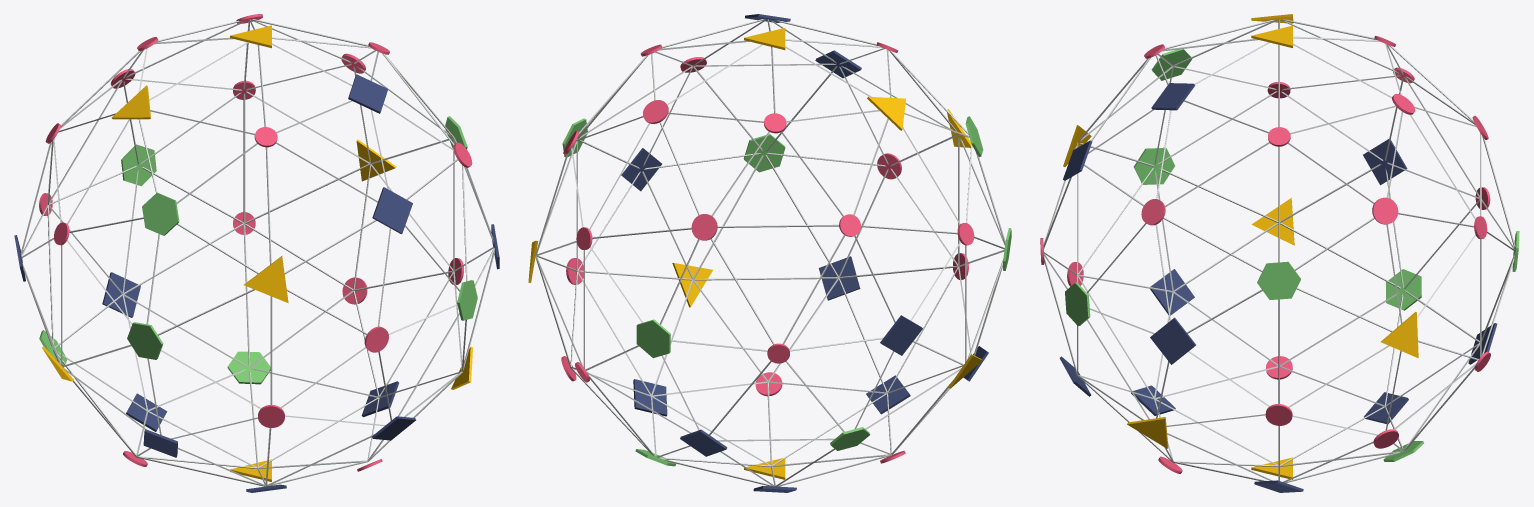
File: wtf-15.glb
3 views of the same model, side by side, from view 1: azimuth 30°, elevation 25°; view 2: azimuth 150°, elevation 25°; view 3: azimuth 270°, elevation 25° (orthographic).
Parts seen in each view (by area): view 1: wireisosphereV4.001; view 2: wireisosphereV4.001; view 3: wireisosphereV4.001.
Boxes of the visible parts, <box> form: wireisosphereV4.001: <box>14,14,499,492</box>; wireisosphereV4.001: <box>528,14,1011,492</box>; wireisosphereV4.001: <box>1040,14,1519,492</box>.
Bounding box in the file's own units: 3.43 × 3.46 × 3.46.
